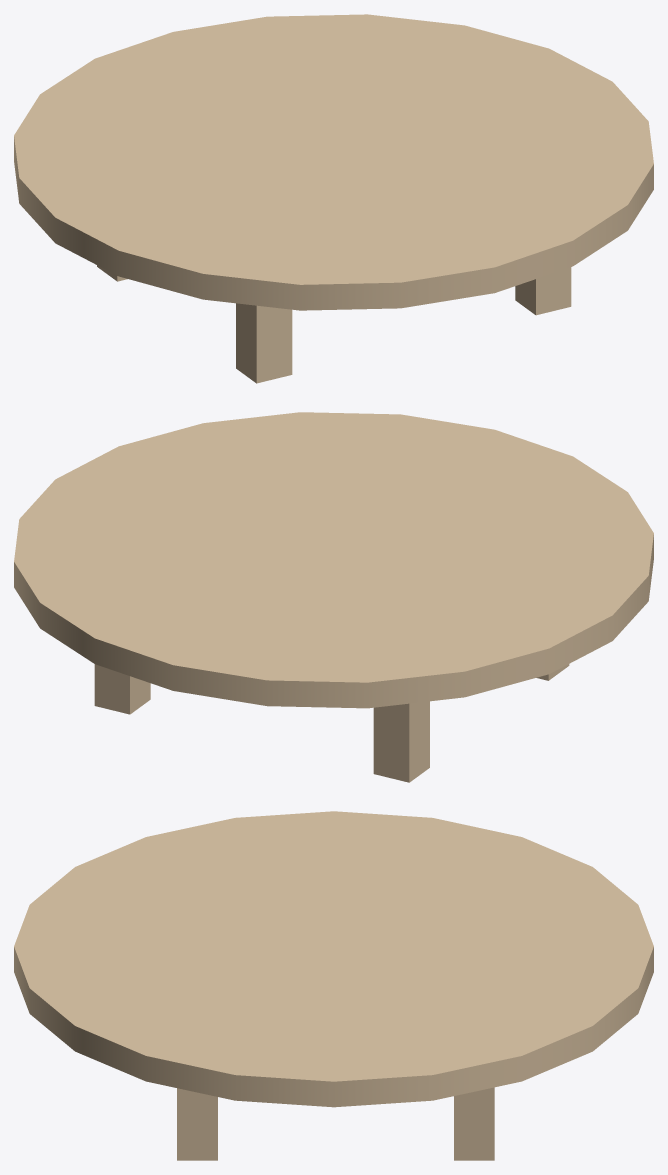
The model's file is fbx_round_table.fbx.
3 renders of one model, top to bottom at view 1: azimuth 30°, elevation 25°; view 2: azimuth 150°, elevation 25°; view 3: azimuth 270°, elevation 25°, orthographic.
Visible parts, largest first — view 1: fbx_round_table; view 2: fbx_round_table; view 3: fbx_round_table.
Boxes of the visible parts, bbox=[...] form: fbx_round_table: bbox=[14, 14, 653, 383]; fbx_round_table: bbox=[14, 412, 653, 782]; fbx_round_table: bbox=[14, 811, 653, 1160].
Bounding box in the file's own units: 1.15 × 0.2712 × 1.15.
1 material, 1 textured.
